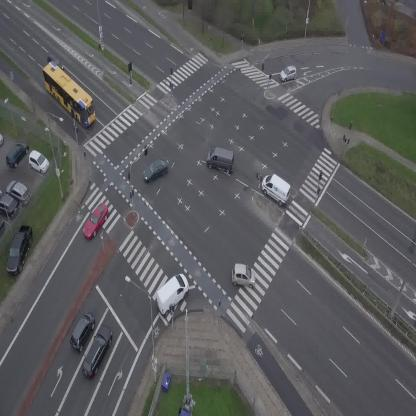bus: (34, 59, 105, 130)
car: (77, 323, 118, 382), (65, 309, 100, 353), (78, 201, 114, 241), (139, 157, 171, 183), (230, 263, 257, 288), (45, 55, 67, 72), (278, 65, 298, 83)
lorry: (148, 269, 195, 318), (256, 170, 297, 209), (204, 144, 238, 175)
